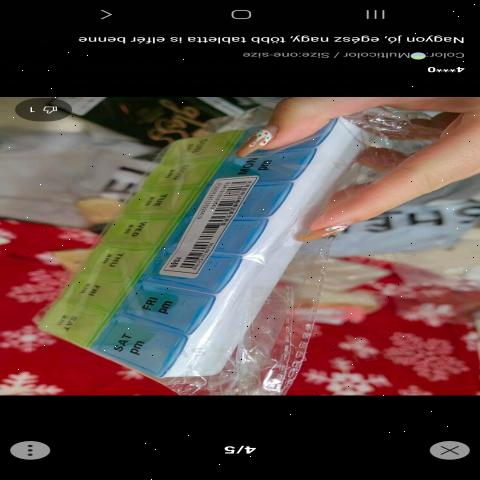PillBox: (33, 116, 322, 385)
